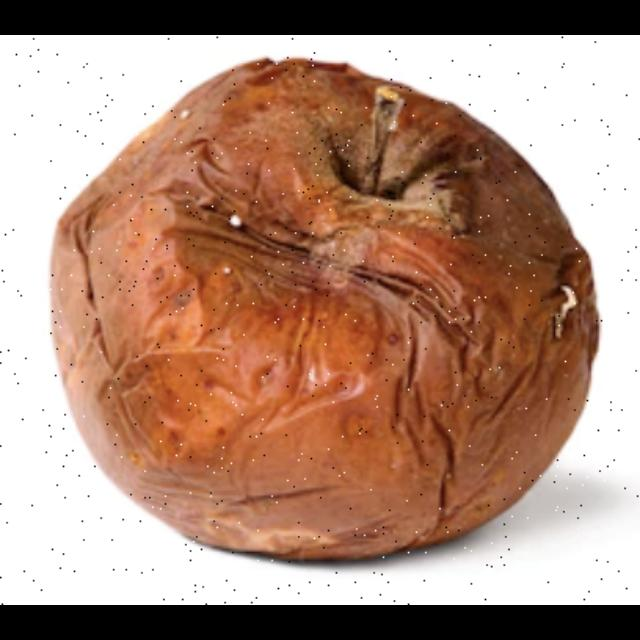Apel Tidak Segar: (42, 47, 606, 575)
